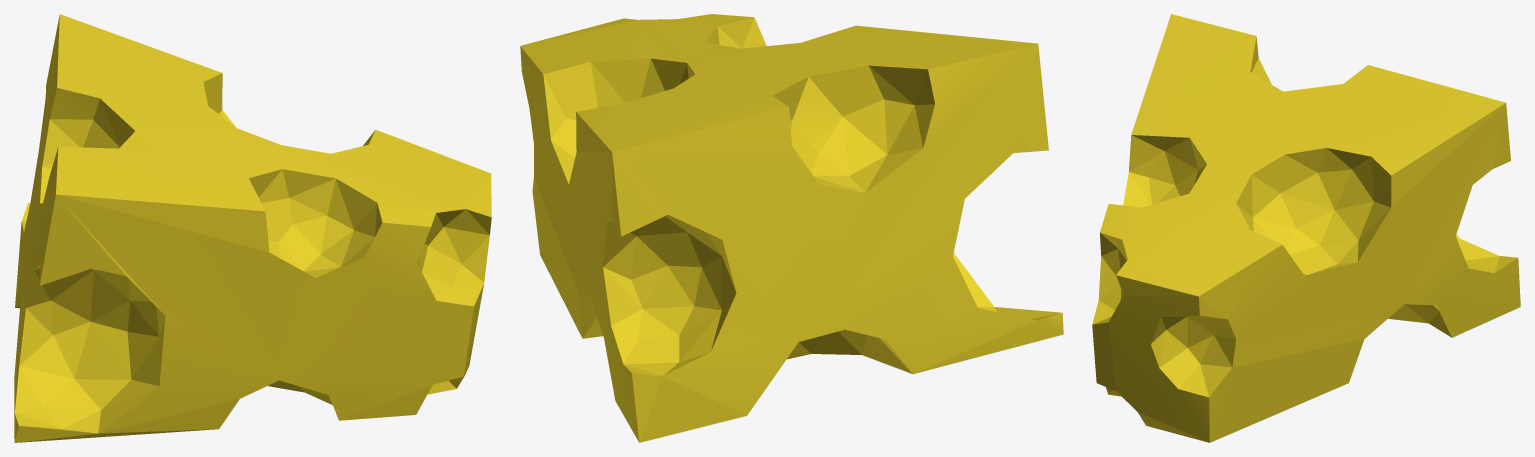
Rendered from formaggio_LOD2.fbx.
3 views of the same model, side by side, from view 1: azimuth 30°, elevation 25°; view 2: azimuth 150°, elevation 25°; view 3: azimuth 270°, elevation 25° (orthographic). The views are drawn at different scales.
Visible parts, largest first — view 1: clothes_018; view 2: clothes_018; view 3: clothes_018.
Part boxes in pixels (x1,y1,x2,y2): clothes_018: (14, 14, 491, 442); clothes_018: (520, 14, 1063, 442); clothes_018: (1092, 14, 1520, 442).
Size of the model in its own units: 63.14 by 34.78 by 55.05.
